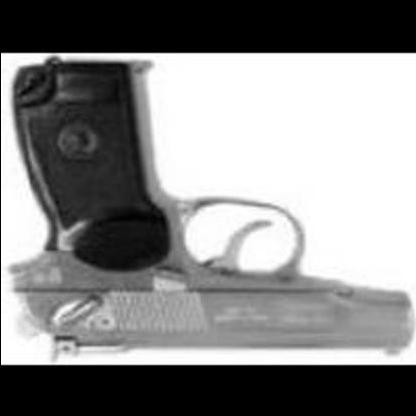weapon: (8, 57, 413, 357)
